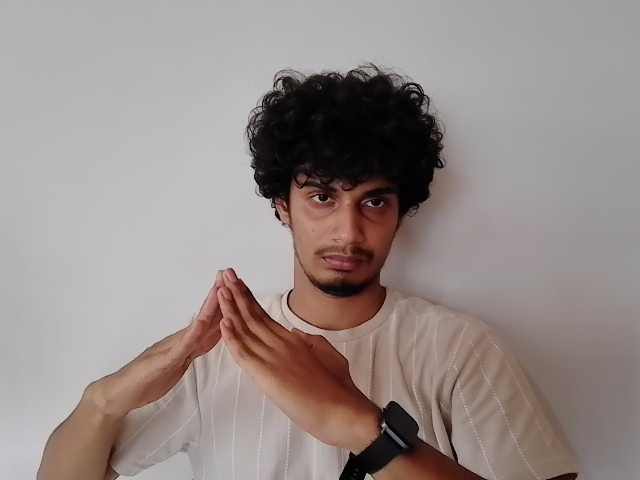home: (105, 263, 369, 435)
